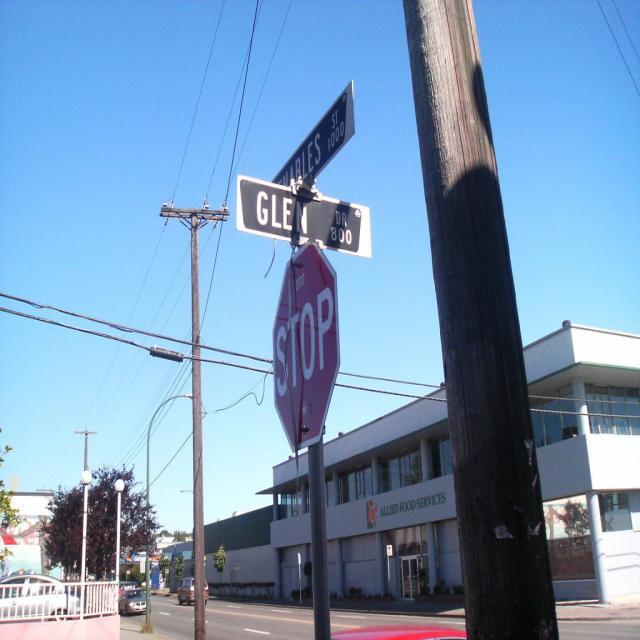Stop-sign: (271, 238, 342, 453)
